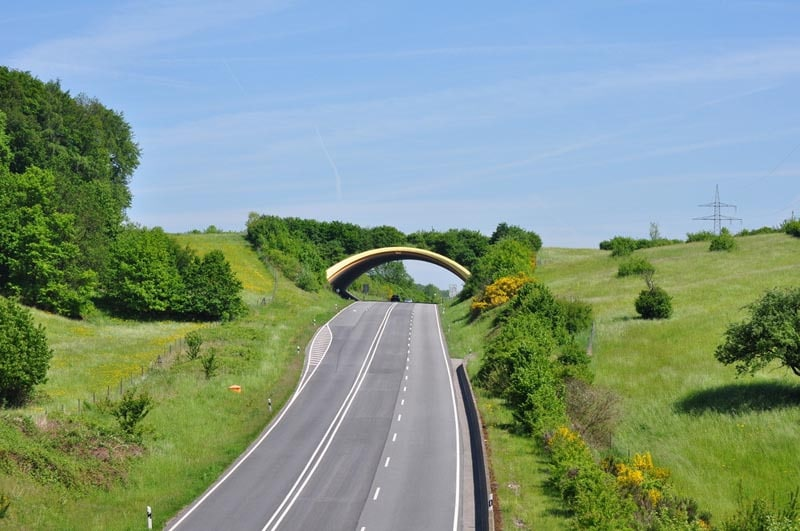bridge: (324, 244, 478, 287)
